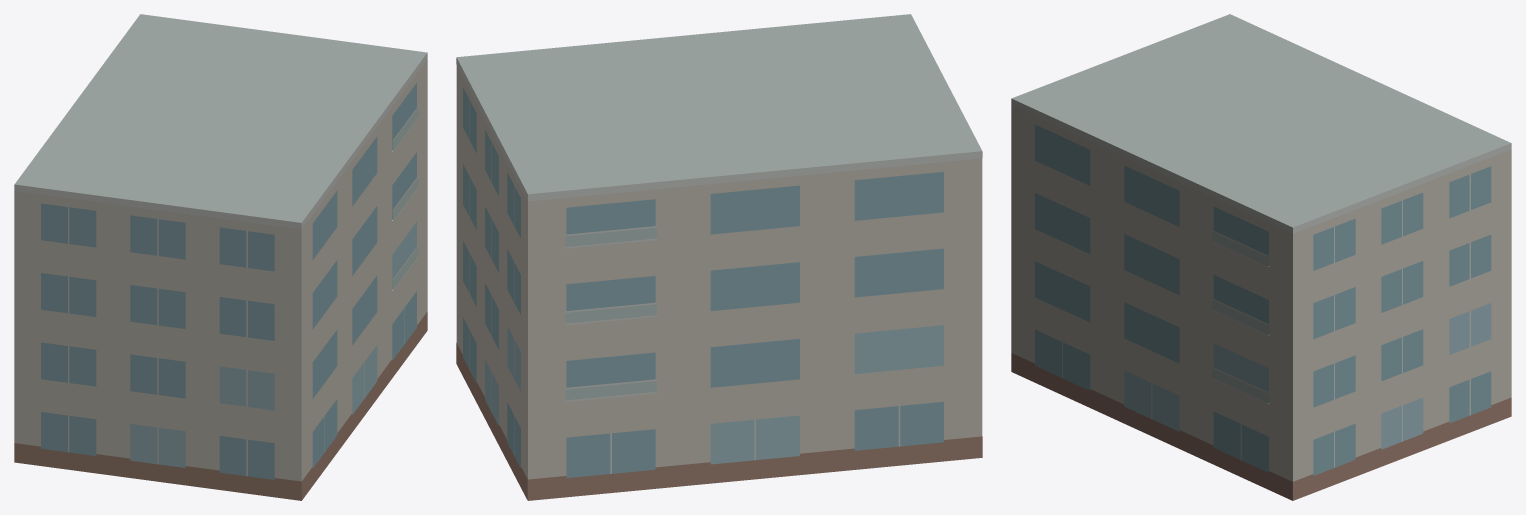
Rendered from survey-upis-33009041.glb.
3 views of the same model, side by side, from view 1: azimuth 30°, elevation 25°; view 2: azimuth 150°, elevation 25°; view 3: azimuth 270°, elevation 25° (orthographic). The views are drawn at different scales.
Visible parts, largest first — view 1: survey-upis-33009041.tmp; view 2: survey-upis-33009041.tmp; view 3: survey-upis-33009041.tmp.
Boxes of the visible parts, bbox=[...] form: survey-upis-33009041.tmp: bbox=[14, 14, 427, 500]; survey-upis-33009041.tmp: bbox=[456, 14, 982, 500]; survey-upis-33009041.tmp: bbox=[1011, 14, 1511, 500].
Bounding box in the file's own units: 17.52 × 10.45 × 17.34.
